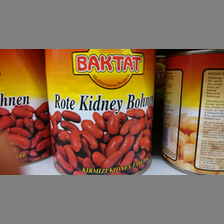beans: (45, 49, 158, 177), (1, 49, 44, 172)
